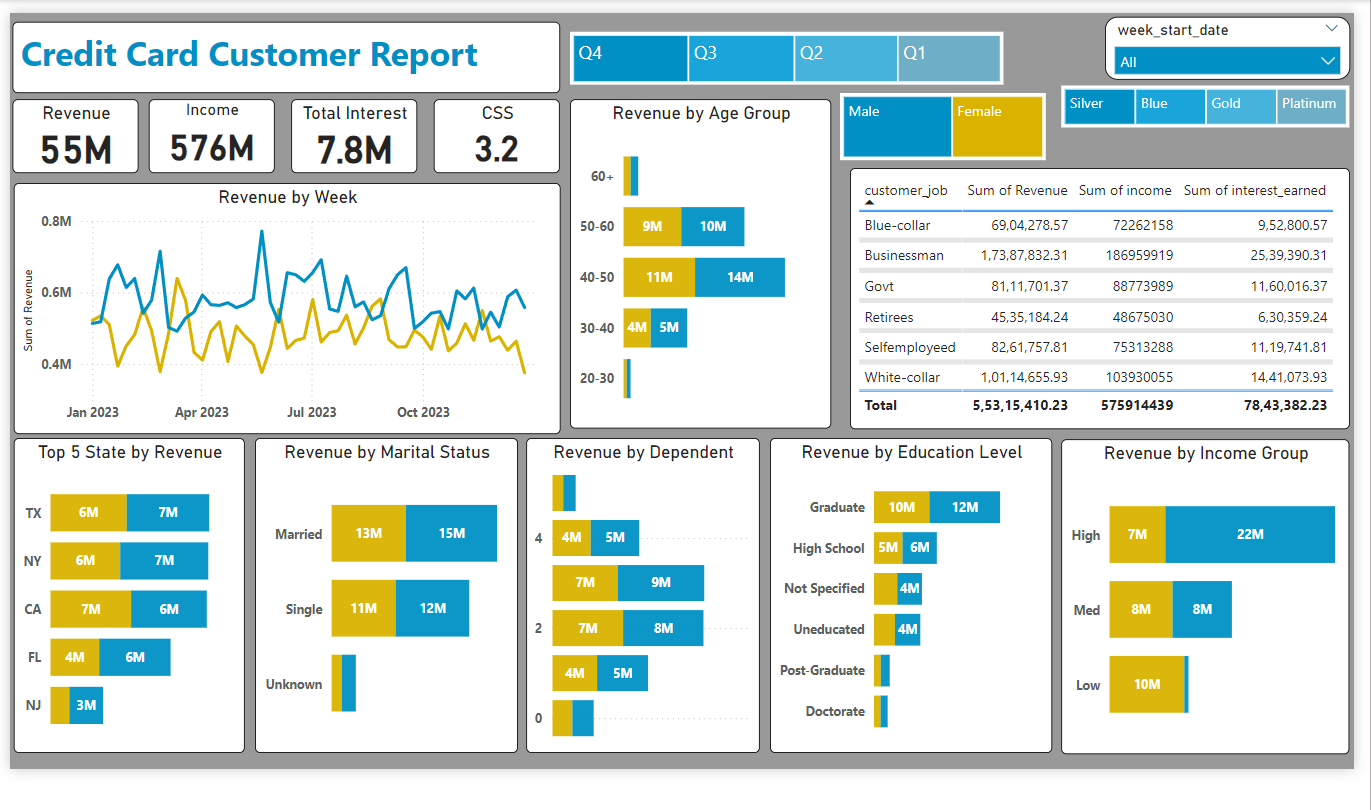

The page's visual inventory and layout, read from the dashboard file:
{"tool":"powerbi","page":{"name":"Cc_Customer","canvas":[1280,720],"ordinal":1},"visuals":[{"type":"textbox","box":[2.4,8.3,521.4,67.9],"z":0},{"type":"barChart","title":"Revenue by Income Group","fields":{"Y":["Sum(public cc_detail.Revenue)"],"Category":["public cust_detail.IncomeGroup"],"Series":["public cust_detail.gender"]},"box":[1001.1,405.6,274.4,300],"z":1000},{"type":"tableEx","fields":{"Values":["public cust_detail.customer_job","Sum(public cc_detail.Revenue)","Sum(public cust_detail.income)","Sum(public cc_detail.interest_earned)"]},"box":[800,147.1,475.7,248.6],"z":2000},{"type":"card","title":"Revenue","fields":{"Values":["Sum(public cc_detail.Revenue)"]},"box":[2.2,82.2,120,70],"z":3000},{"type":"card","title":"Income ","fields":{"Values":["Sum(public cust_detail.income)"]},"box":[132.2,82.2,120,70],"z":4000},{"type":"card","title":"CSS","fields":{"Values":["Avg(public cust_detail.cust_satisfaction_score)"]},"box":[403.9,82.2,120,70],"z":5000},{"type":"card","title":"Total Interest","fields":{"Values":["Sum(public cc_detail.interest_earned)"]},"box":[268.3,82.2,120,70],"z":6000},{"type":"slicer","fields":{"Values":["public cc_detail.week_start_date"]},"box":[1042.3,3.6,233.6,60],"z":7000},{"type":"treemap","fields":{"Group":["public cc_detail.qtr"],"Values":["Avg(public cc_detail.client_num)"]},"box":[533.6,17.9,412.9,50.7],"z":8000},{"type":"treemap","fields":{"Group":["public cc_detail.card_category"],"Values":["Avg(public cc_detail.client_num)"]},"box":[1001,76,274.1,40],"z":9000},{"type":"lineChart","title":"Revenue by Week","fields":{"Y":["Sum(public cc_detail.Revenue)"],"Series":["public cust_detail.gender"],"Category":["public cc_detail.week_start_date.Variation.Date Hierarchy.Year","public cc_detail.week_start_date.Variation.Date Hierarchy.Month","public cc_detail.week_start_date.Variation.Date Hierarchy.Day"]},"box":[3.3,161.7,520.6,239.4],"z":10000},{"type":"treemap","fields":{"Group":["public cust_detail.gender"],"Values":["Sum(public cc_detail.Revenue)"]},"box":[790,75.9,195.9,64.1],"z":11000},{"type":"barChart","title":"Revenue by Age Group","fields":{"Y":["Sum(public cc_detail.Revenue)"],"Category":["public cust_detail.AgeGroup"],"Series":["public cust_detail.gender"]},"box":[533.3,82.2,248.9,313.3],"z":12000},{"type":"barChart","title":"Revenue by Dependent","fields":{"Y":["Sum(public cc_detail.Revenue)"],"Category":["public cust_detail.dependent_count"],"Series":["public cust_detail.gender"]},"box":[491.4,405,222.1,300],"z":13000},{"type":"barChart","title":"Revenue by Education Level","fields":{"Y":["Sum(public cc_detail.Revenue)"],"Category":["public cust_detail.education_level"],"Series":["public cust_detail.gender"]},"box":[723.6,405,268.6,300],"z":14000},{"type":"barChart","title":"Top 5 State by Revenue","fields":{"Y":["Sum(public cc_detail.Revenue)"],"Category":["public cust_detail.state_cd"],"Series":["public cust_detail.gender"]},"box":[3.3,405,220,300],"z":15000},{"type":"barChart","title":"Revenue by Marital Status","fields":{"Y":["Sum(public cc_detail.Revenue)"],"Category":["public cust_detail.marital_status"],"Series":["public cust_detail.gender"]},"box":[232.9,405,250,300],"z":16000}]}

Visuals, with their boxes in screenshot pixels (x1, y1, x2, y2):
textbox: BBox(6, 16, 557, 88)
"Revenue by Income Group" barChart: BBox(1061, 436, 1351, 752)
tableEx - public cust_detail.customer_job x Sum(public cc_detail.Revenue): BBox(849, 163, 1351, 425)
"Revenue" card: BBox(6, 94, 133, 168)
"Income " card: BBox(143, 94, 270, 168)
"CSS" card: BBox(430, 94, 557, 168)
"Total Interest" card: BBox(287, 94, 414, 168)
slicer - public cc_detail.week_start_date: BBox(1105, 11, 1351, 74)
treemap - public cc_detail.qtr x Avg(public cc_detail.client_num): BBox(567, 26, 1003, 80)
treemap - public cc_detail.card_category x Avg(public cc_detail.client_num): BBox(1061, 87, 1350, 130)
"Revenue by Week" lineChart: BBox(7, 178, 557, 431)
treemap - public cust_detail.gender x Sum(public cc_detail.Revenue): BBox(838, 87, 1045, 155)
"Revenue by Age Group" barChart: BBox(567, 94, 830, 425)
"Revenue by Dependent" barChart: BBox(523, 435, 757, 752)
"Revenue by Education Level" barChart: BBox(768, 435, 1052, 752)
"Top 5 State by Revenue" barChart: BBox(7, 435, 239, 752)
"Revenue by Marital Status" barChart: BBox(250, 435, 514, 752)
